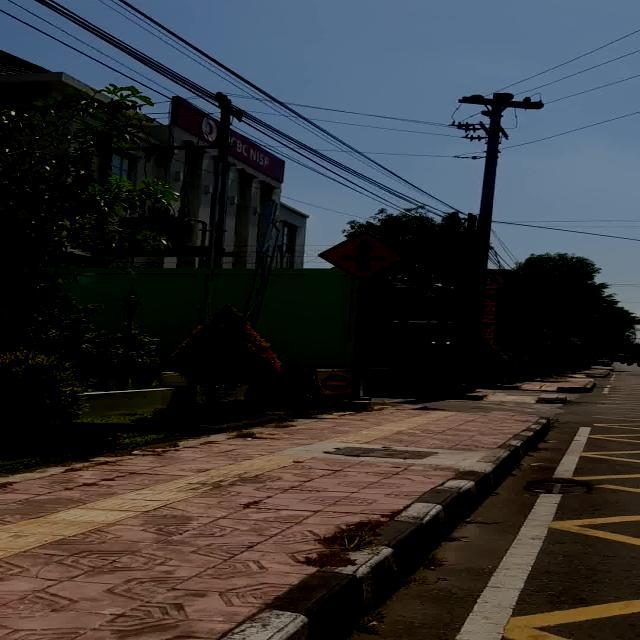Persimpangan 3 Prioritas: (318, 230, 411, 282)
